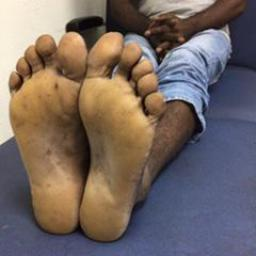Plantar View -Both Feet-: (5, 18, 170, 244)
